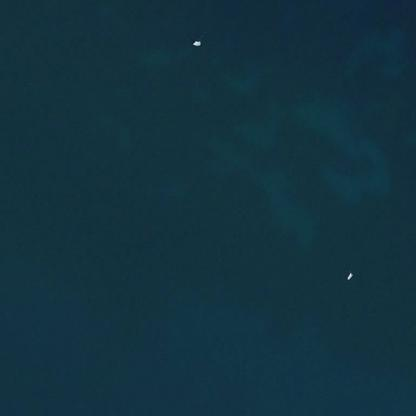ship: (346, 272, 353, 280), (195, 38, 197, 45)
